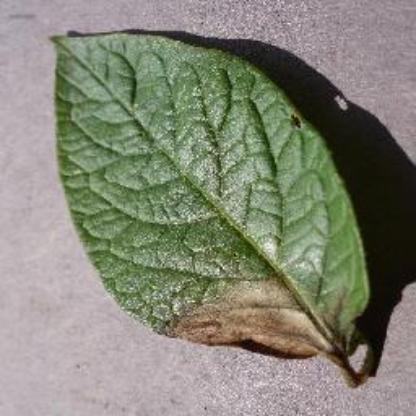Late-Blight: (25, 24, 380, 380)
